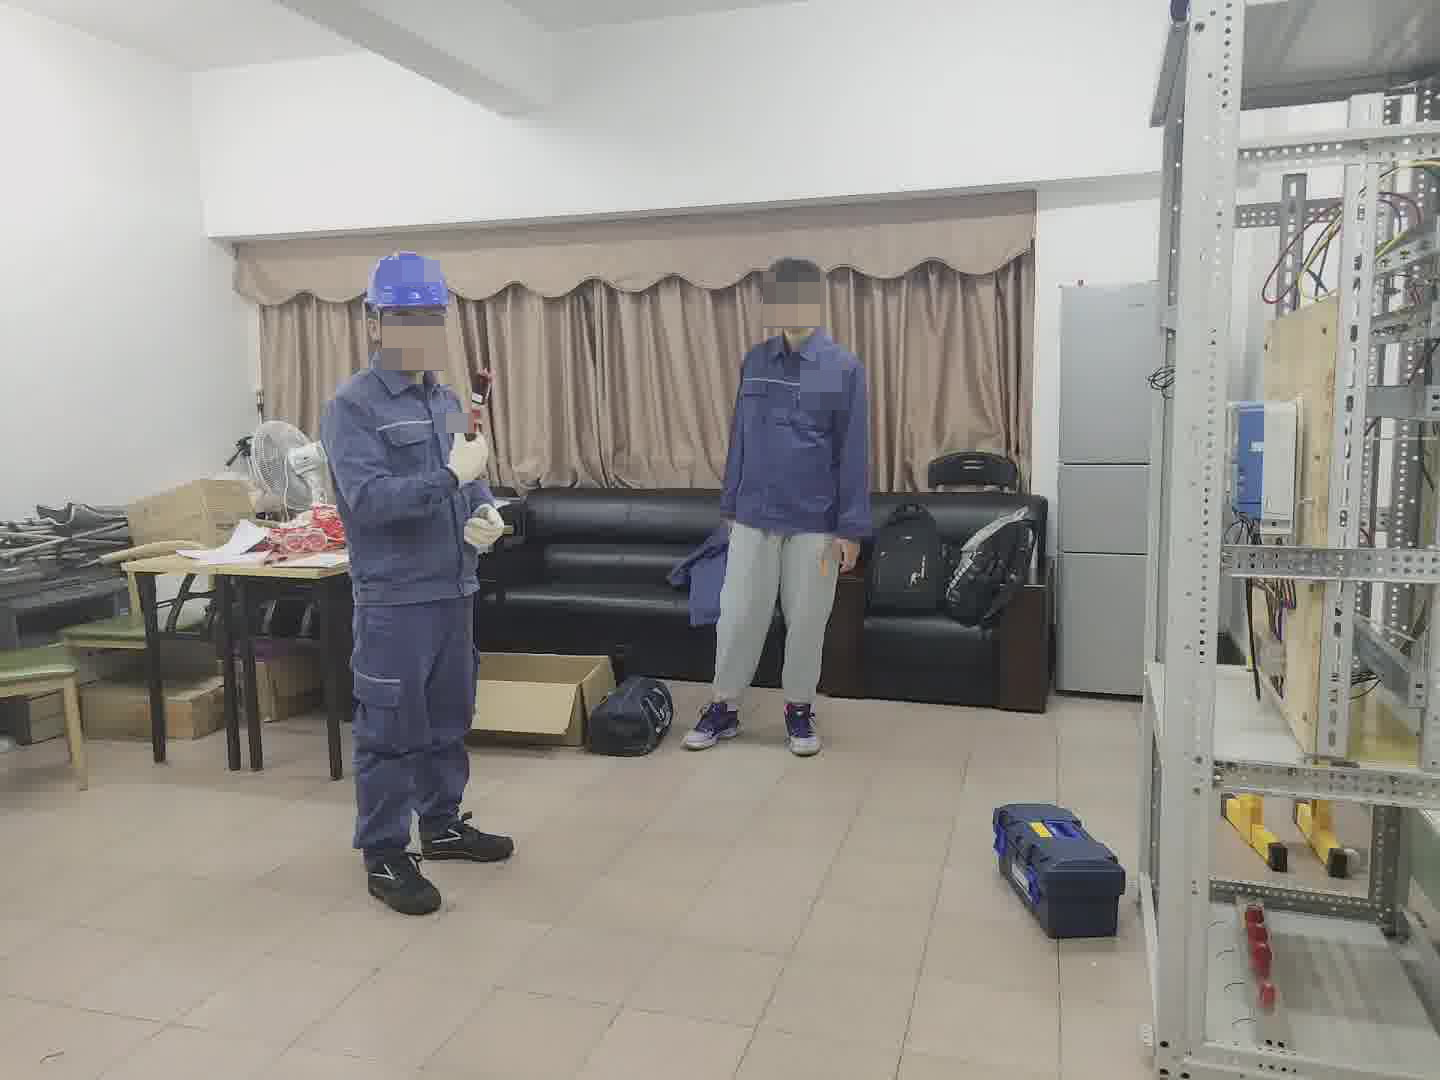downcloth: (713, 526, 825, 700)
downsuit: (345, 612, 488, 853)
halt: (360, 252, 460, 366)
hand: (837, 538, 865, 573)
person: (311, 246, 520, 908), (699, 249, 879, 690)
testrod: (463, 366, 494, 442)
unhalt: (758, 253, 829, 337)
upsuit: (319, 356, 496, 598), (716, 332, 873, 532)
wglove: (447, 431, 491, 489), (462, 505, 505, 554)
